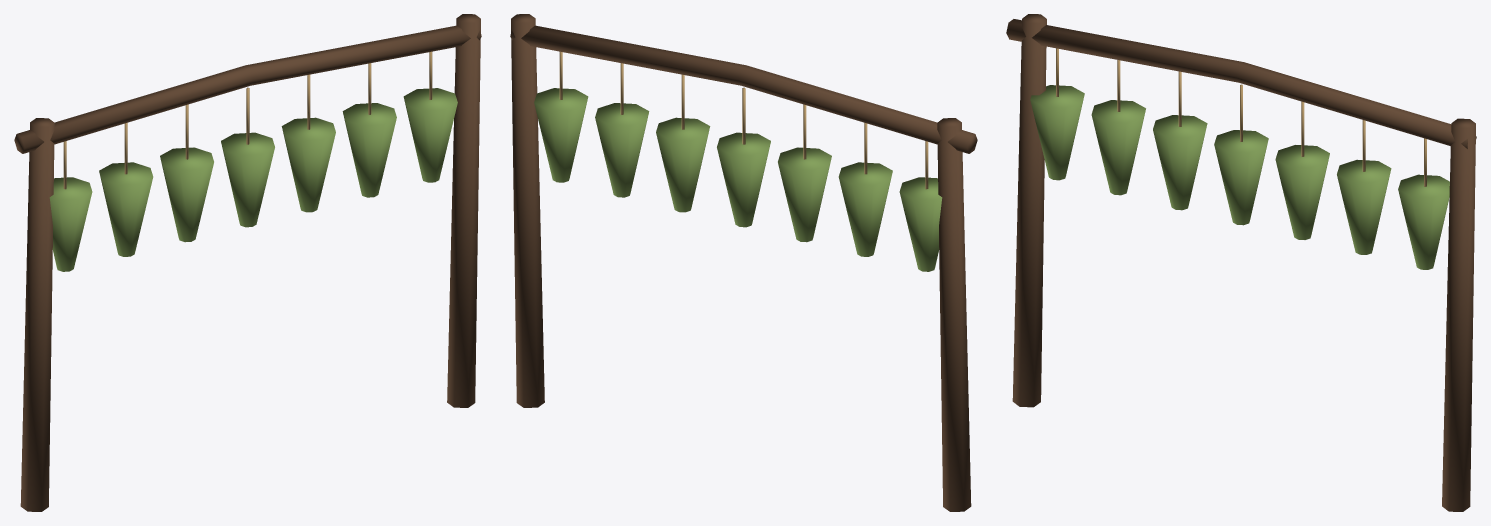
The model's file is wg_herb_rack.fbx.
3 views of the same model, side by side, from view 1: azimuth 30°, elevation 25°; view 2: azimuth 150°, elevation 25°; view 3: azimuth 330°, elevation 25° (orthographic).
Visible parts, largest first — view 1: wg_herb_rack; view 2: wg_herb_rack; view 3: wg_herb_rack.
Boxes of the visible parts, x1,y1,x2,y2 form: wg_herb_rack: [14, 14, 481, 511]; wg_herb_rack: [510, 14, 977, 511]; wg_herb_rack: [1006, 14, 1476, 511].
Size of the model in its own units: 301 by 243 by 32.
